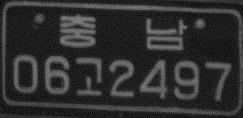0: (12, 54, 39, 94)
2: (108, 58, 134, 97)
4: (139, 58, 167, 99)
6: (43, 55, 70, 96)
7: (204, 60, 232, 101)
9: (173, 60, 200, 100)
고: (74, 56, 103, 97)
충남_D: (58, 13, 186, 51)
